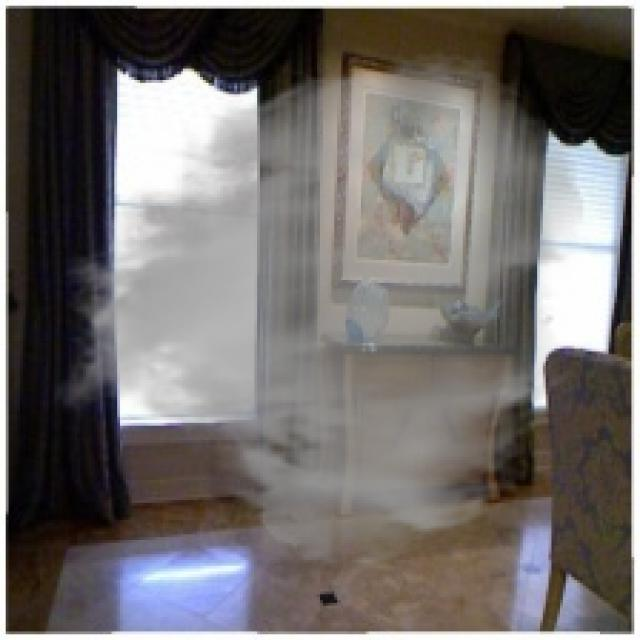smoke: (51, 49, 588, 572)
